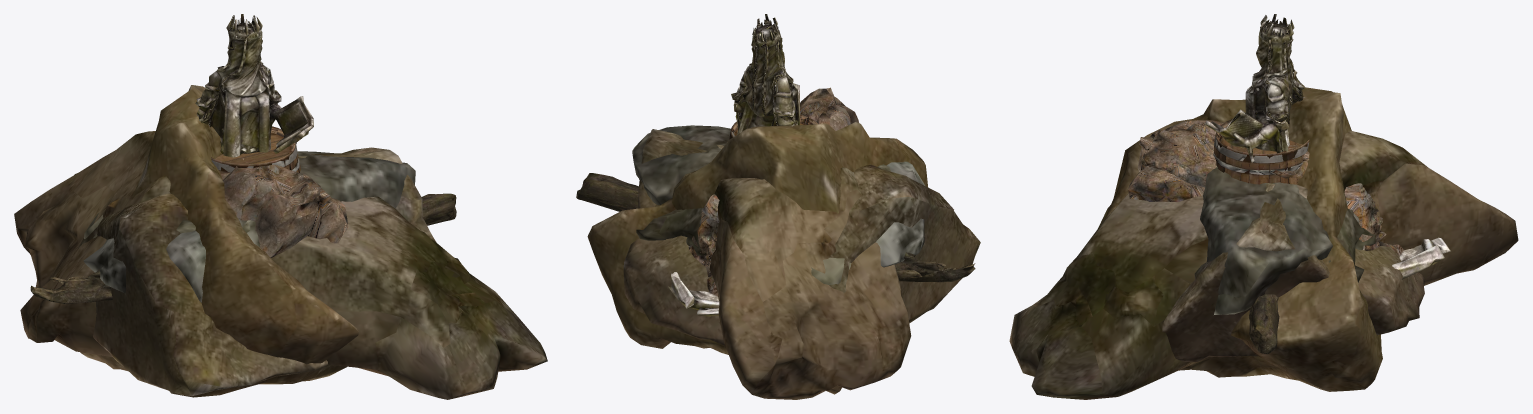
File: env.glb
3 renders of one model, left to right at view 1: azimuth 30°, elevation 25°; view 2: azimuth 150°, elevation 25°; view 3: azimuth 270°, elevation 25°, orthographic. The views are drawn at different scales.
Parts seen in each view (by area): view 1: rock_moss_set_01_rock02, rock_moss_set_01_rock04, rock_moss_set_01_rock03, gothic_statue, boulder, rock_moss_set_02_rock10, dead_tree_trunk, wine_barrel_01, wine_barrel_01_Lid; view 2: rock_moss_set_01_rock02, rock_moss_set_01_rock03, rock_moss_set_01_rock04, rock_moss_set_02_rock10, gothic_statue, dead_tree_trunk, boulder, rock_moss_set_02_rock12; view 3: rock_moss_set_01_rock02, rock_moss_set_01_rock04, rock_moss_set_01_rock03, rock_moss_set_02_rock10, gothic_statue, boulder, wine_barrel_01, dead_tree_trunk, rock_moss_set_02_rock12.
Part boxes in pixels (<box>): rock_moss_set_01_rock02: <box>14,131,547,399</box>; rock_moss_set_01_rock04: <box>80,85,358,397</box>; rock_moss_set_01_rock03: <box>78,147,436,396</box>; gothic_statue: <box>195,14,313,157</box>; boulder: <box>220,158,348,257</box>; rock_moss_set_02_rock10: <box>83,151,415,302</box>; dead_tree_trunk: <box>30,193,456,304</box>; wine_barrel_01: <box>211,126,300,173</box>; wine_barrel_01_Lid: <box>215,132,292,164</box>; rock_moss_set_01_rock02: <box>709,167,911,399</box>; rock_moss_set_01_rock03: <box>623,129,980,345</box>; rock_moss_set_01_rock04: <box>587,122,928,394</box>; rock_moss_set_02_rock10: <box>632,125,925,284</box>; gothic_statue: <box>668,14,799,316</box>; dead_tree_trunk: <box>576,173,975,282</box>; boulder: <box>688,87,858,296</box>; rock_moss_set_02_rock12: <box>636,164,890,255</box>; rock_moss_set_01_rock02: <box>1009,131,1518,399</box>; rock_moss_set_01_rock04: <box>1103,87,1382,391</box>; rock_moss_set_01_rock03: <box>1098,183,1424,361</box>; rock_moss_set_02_rock10: <box>1200,166,1359,314</box>; gothic_statue: <box>1204,14,1450,279</box>; boulder: <box>1128,120,1403,255</box>; wine_barrel_01: <box>1213,119,1309,184</box>; dead_tree_trunk: <box>1249,294,1279,354</box>; rock_moss_set_02_rock12: <box>1328,209,1375,282</box>.
Bounding box in the file's own units: 3.04 × 2.38 × 3.22.
Materials: 16 (16 with a texture image).
